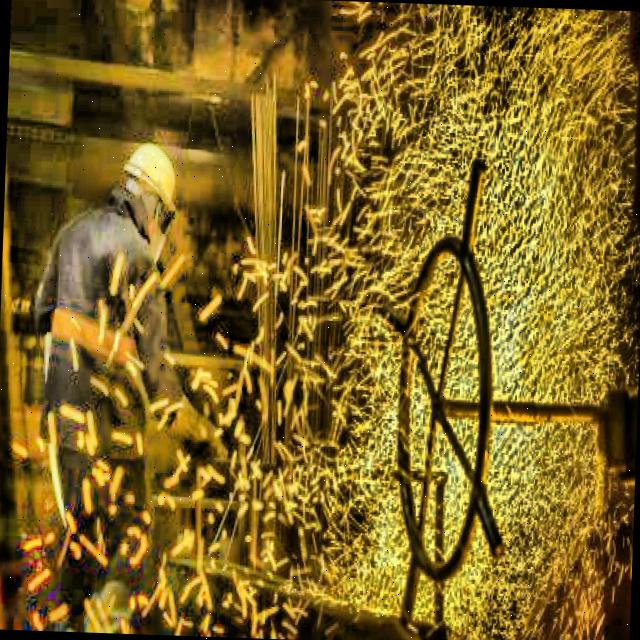helmet: (110, 138, 180, 251)
